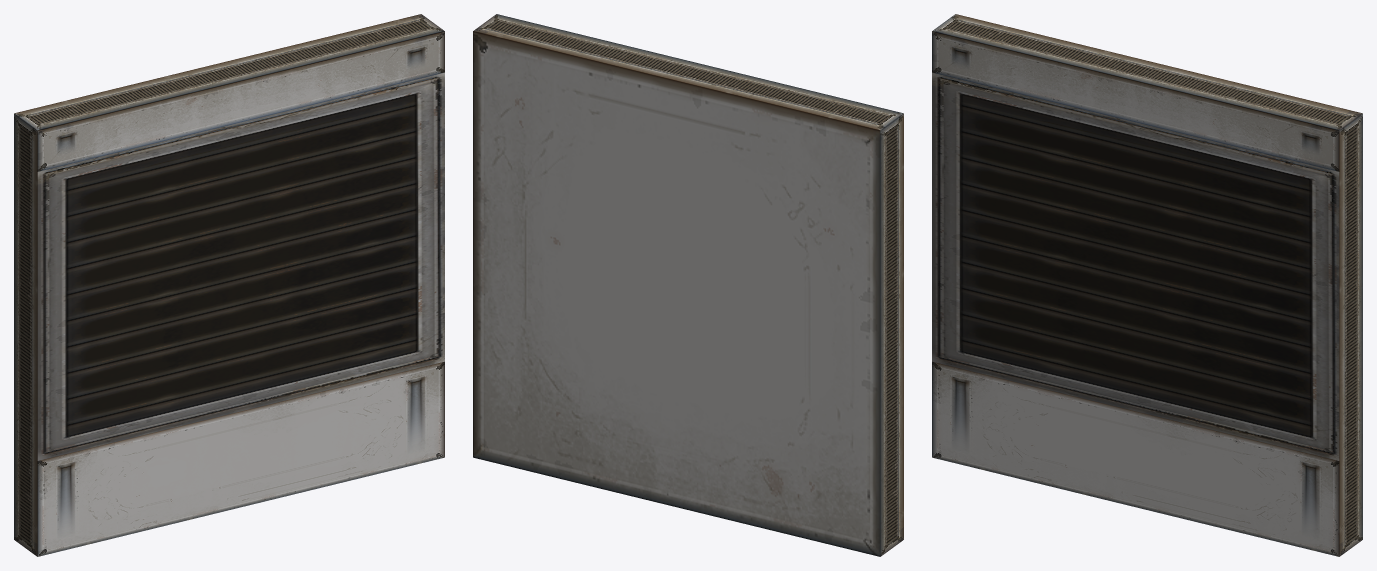
The model's file is scifi_wall2_1.FBX.
3 renders of one model, left to right at view 1: azimuth 30°, elevation 25°; view 2: azimuth 150°, elevation 25°; view 3: azimuth 330°, elevation 25°, orthographic.
Visible parts, largest first — view 1: Plane01; view 2: Plane01; view 3: Plane01.
Part boxes in pixels (x1,y1,x2,y2): Plane01: (14, 14, 444, 556); Plane01: (473, 14, 903, 556); Plane01: (932, 14, 1362, 556).
Size of the model in its own units: 254 by 254 by 25.4.
